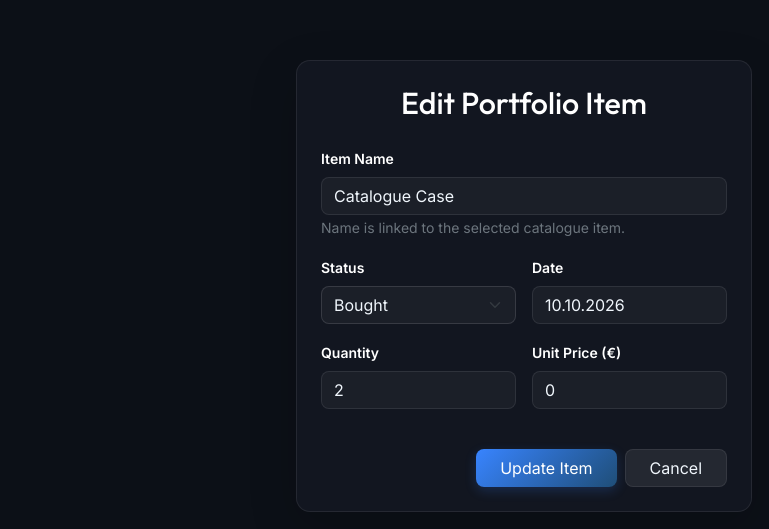
Test: a loaded numeric zero price can be saved and a catalogue-linked name is read-only
The width and height of the screenshot is (769, 529).
Expected: the field showing "Catalogue Case" is shown, [321,176,727,214]
Expected: the field labelled "Date" holds "10.10.2026", [532,286,727,324]
Click the button "Update Item".
click(546, 468)  # box [476,448,616,486]
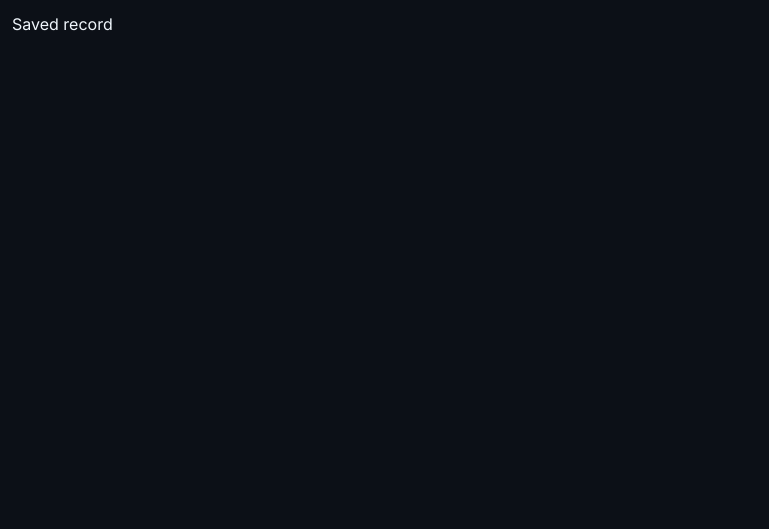
Expected: the text "Saved record" is shown, [12,14,113,34]
